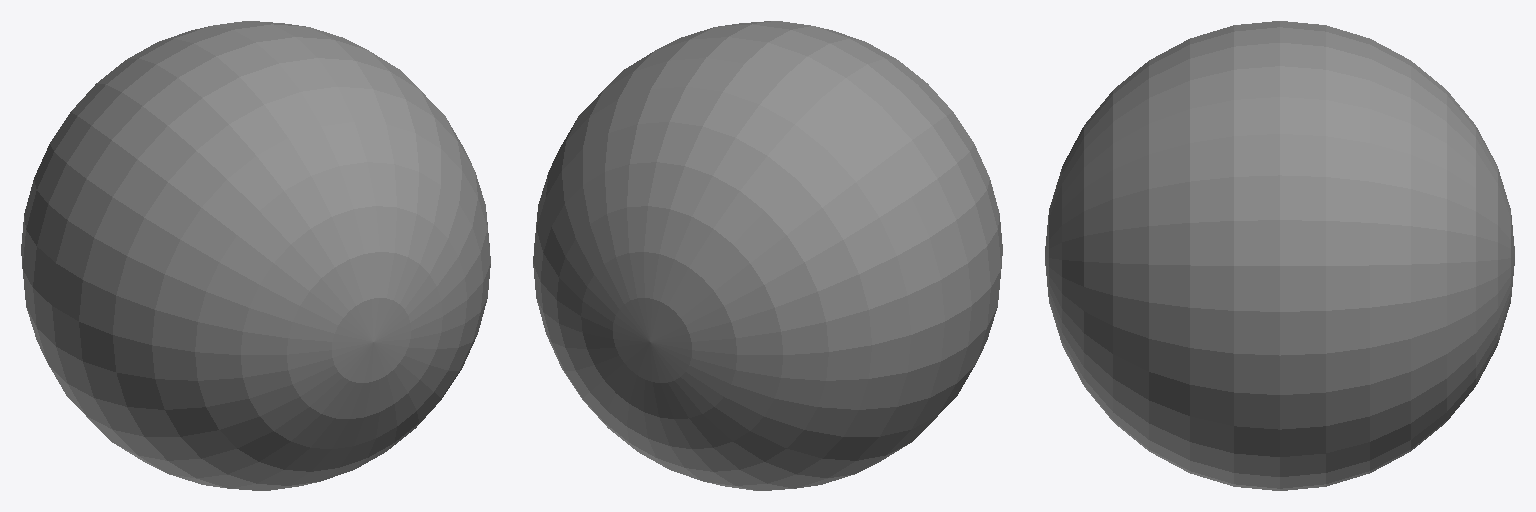
The model's file is 7bw0yr2zitz0.obj.
The picture shows the model from 3 angles: view 1: azimuth 30°, elevation 25°; view 2: azimuth 150°, elevation 25°; view 3: azimuth 270°, elevation 25°; orthographic projection.
Parts seen in each view (by area): view 1: Sphere; view 2: Sphere; view 3: Sphere.
Boxes of the visible parts, x1=… form: Sphere: x1=21, y1=21, x2=490, y2=490; Sphere: x1=533, y1=21, x2=1002, y2=490; Sphere: x1=1045, y1=21, x2=1514, y2=490.
Bounding box in the file's own units: 2 × 2 × 2.